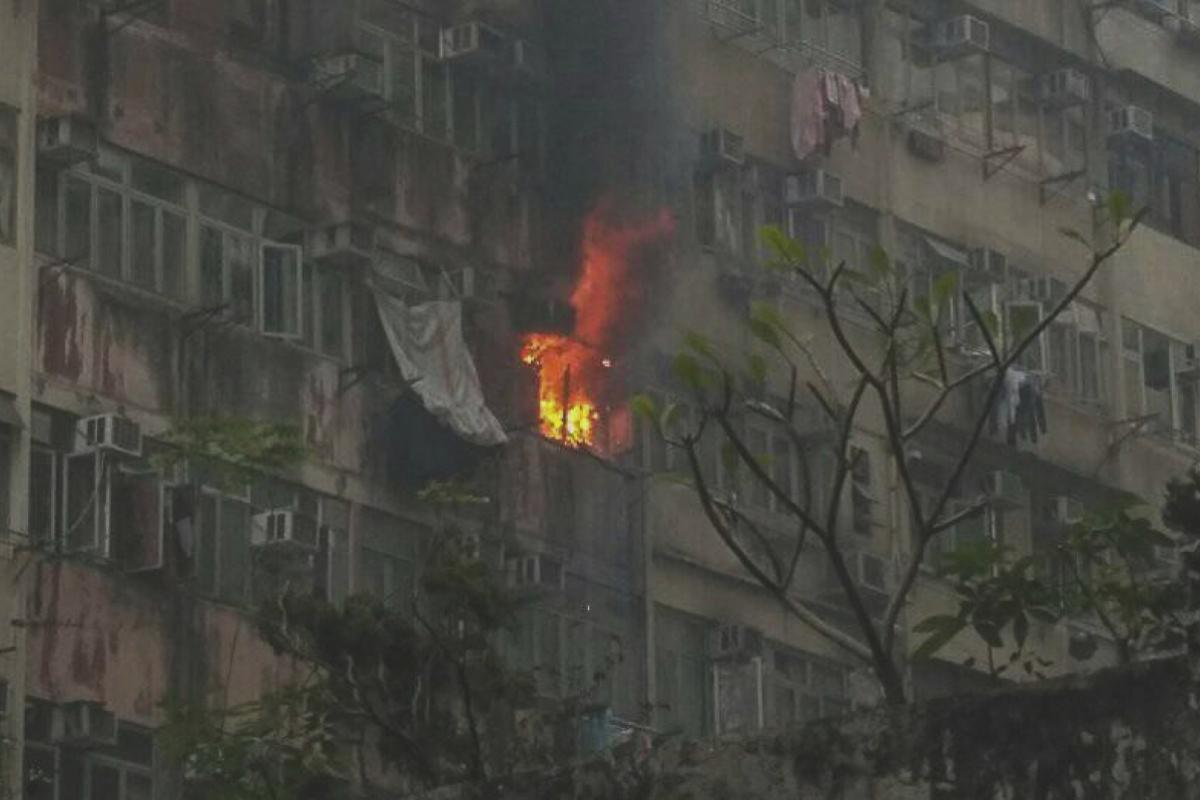Fire: (526, 331, 605, 447)
